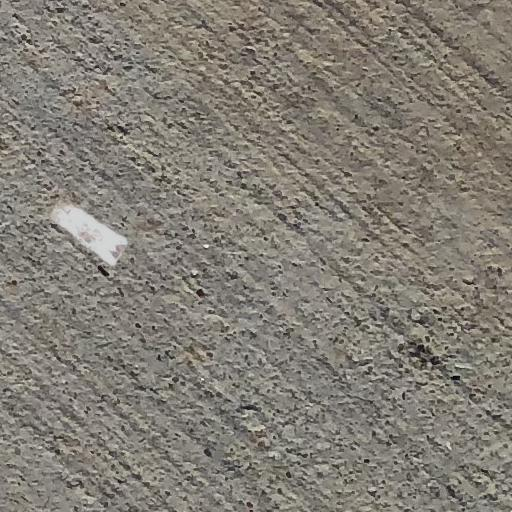smoke: (50, 200, 127, 265)
